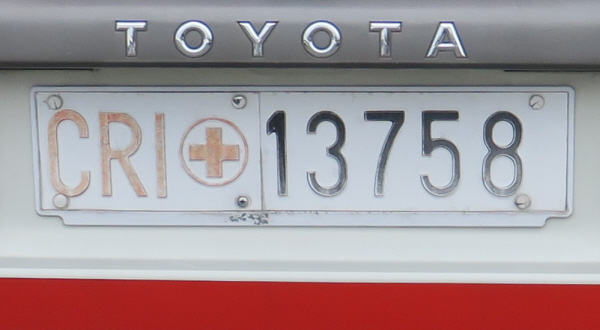license_plate: (31, 87, 569, 215)
